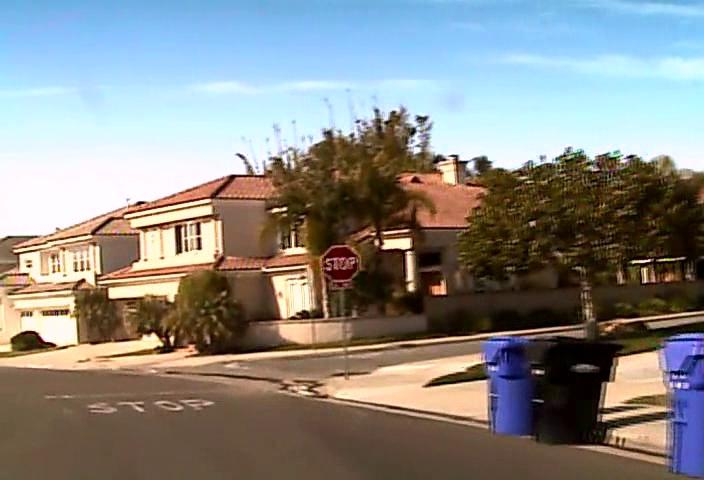stop: (319, 244, 361, 282)
